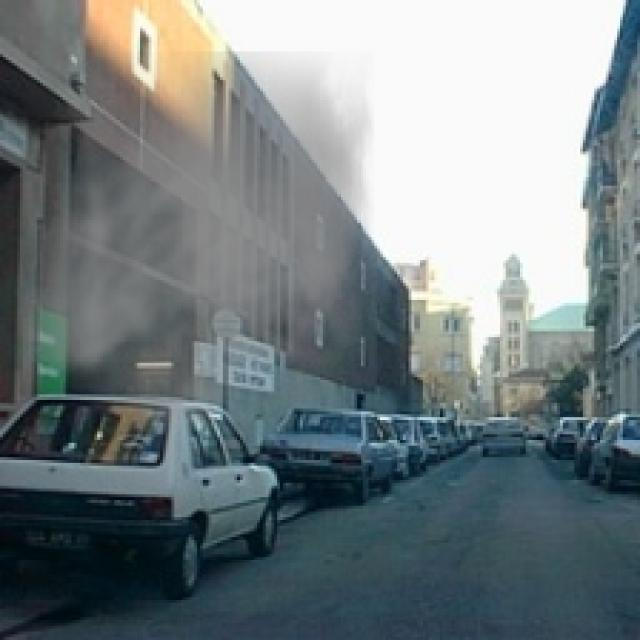Smoke: (22, 51, 374, 452)
